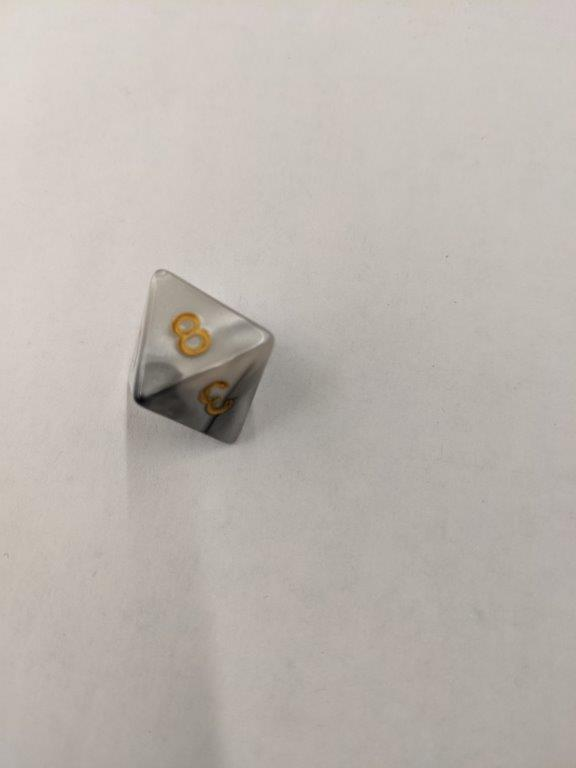d8-8: (126, 267, 279, 451)
